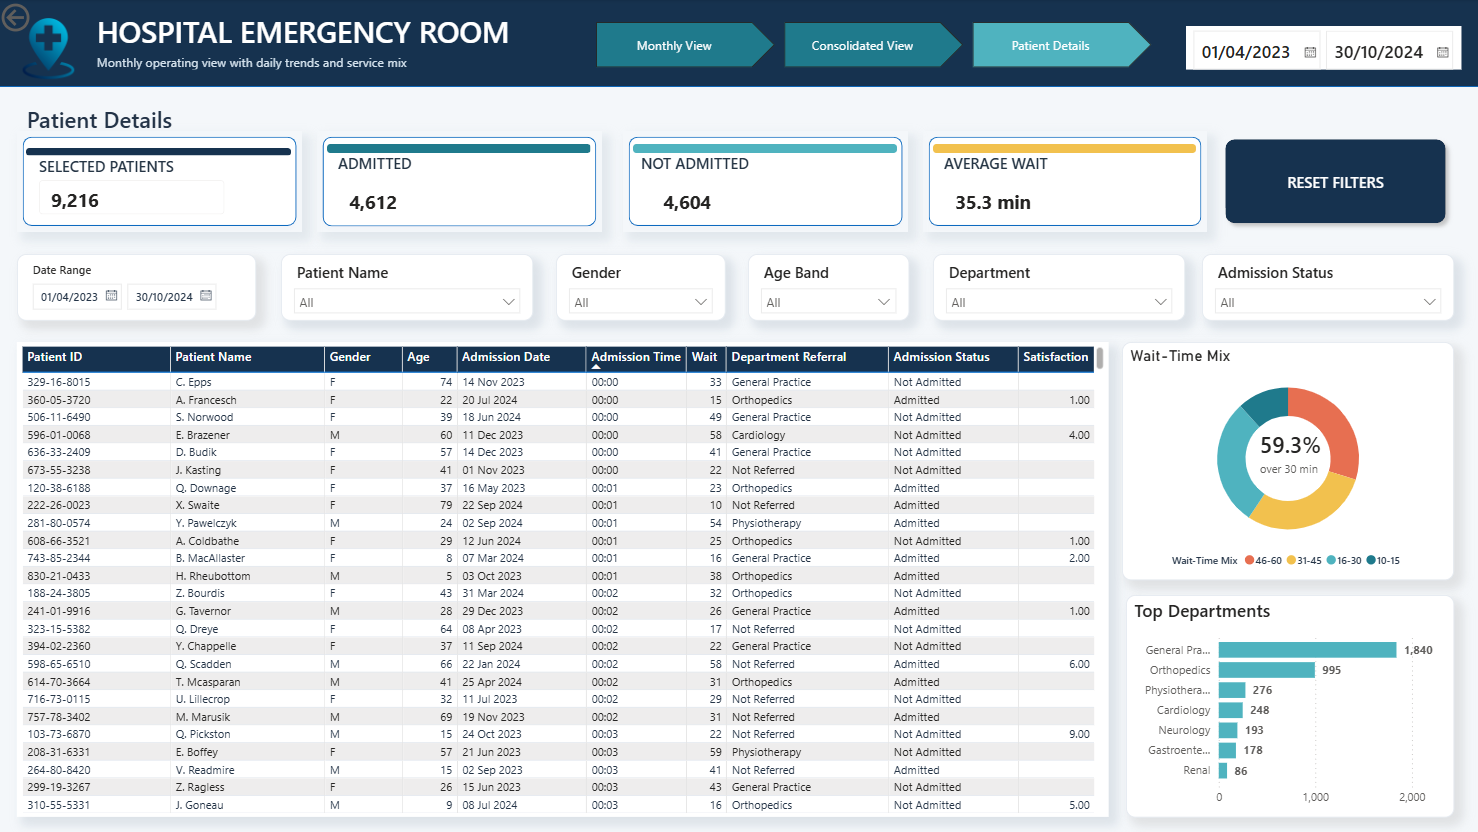

The dashboard page shown, as its layout file describes it:
{"tool":"powerbi","page":{"name":"Patient Details","canvas":[1600,900],"ordinal":2},"visuals":[{"type":"shape","box":[0,0,1600,94.8],"z":0},{"type":"donutChart","title":"Wait-Time Mix","fields":{"Category":["ER Visits.Wait Time Band"],"Y":["ER Visits.Total Patients"]},"box":[1213.2,370.2,358.1,256.8],"z":0,"group":"g4"},{"type":"shape","box":[22,142.3,307.5,108.5],"z":1000},{"type":"shape","box":[345.1,142.3,307.2,109],"z":1000,"group":"g1"},{"type":"cardVisual","fields":{"Data":["ER Visits.Patients Over 30 Min %"]},"box":[1332.6,424.5,179.7,129],"z":1000,"group":"g4"},{"type":"shape","box":[675.5,142.3,307.5,108.5],"z":2000,"group":"g2"},{"type":"cardVisual","title":"SELECTED PATIENTS","fields":{"Data":["ER Visits.Total Patients"]},"box":[44.9,168.8,200.2,63.9],"z":2000},{"type":"shape","box":[998.6,142.3,306.3,108.5],"z":3000,"group":"g3"},{"type":"shape","box":[31.6,160.4,285.8,8.4],"z":3000},{"type":"image","box":[20.7,20.7,70.5,65.7],"z":4000},{"type":"textbox","box":[102.1,7.3,500.9,59.6],"z":5000},{"type":"cardVisual","title":"ADMITTED","fields":{"Data":["ER Visits.Admitted Patients"]},"box":[368.1,165.6,269.1,75.5],"z":5000,"group":"g1"},{"type":"textbox","box":[102.1,53.5,500.9,26.7],"z":6000},{"type":"cardVisual","title":"NOT ADMITTED","fields":{"Data":["ER Visits.Not Admitted Patients"]},"box":[694.6,165.5,228.3,75.2],"z":6000,"group":"g2"},{"type":"slicer","fields":{"Values":["Date.Date"]},"box":[1281.7,28.9,296.6,47],"z":7000},{"type":"cardVisual","title":"AVERAGE WAIT","fields":{"Data":["ER Visits.Average Wait Time (Min)"]},"box":[1021.3,165.9,230.4,75.2],"z":7000,"group":"g3"},{"type":"textbox","box":[26.5,107.3,249.6,43.4],"z":8000},{"type":"actionButton","box":[0,0,100,40],"z":9000},{"type":"group","id":"g1","title":"Group 2","box":[345.1,142.3,307.5,108.5],"z":10000},{"type":"group","id":"g2","title":"Group 3","box":[675.5,142.3,307.5,108.5],"z":11000},{"type":"shape","box":[355.7,156.3,284.4,9.7],"z":11000,"group":"g1"},{"type":"group","id":"g3","title":"Group 4","box":[998.6,142.3,306.3,108.5],"z":12000},{"type":"shape","box":[686.2,156.3,284.6,9.7],"z":12000,"group":"g2"},{"type":"actionButton","box":[1315.7,142.3,255.6,108.5],"z":13000},{"type":"shape","box":[1009.2,156.3,283.5,9.7],"z":13000,"group":"g3"},{"type":"slicer","fields":{"Values":["Date.Date"]},"box":[22,274.9,258,72.3],"z":14000},{"type":"slicer","fields":{"Values":["ER Visits.Patient Full Name"]},"box":[306.5,274.9,272.5,72.3],"z":15000},{"type":"slicer","fields":{"Values":["ER Visits.Gender Label"]},"box":[603.1,274.9,183.3,72.3],"z":16000},{"type":"slicer","fields":{"Values":["ER Visits.Age Band"]},"box":[809.3,274.9,173.6,72.3],"z":17000},{"type":"slicer","fields":{"Values":["ER Visits.Department Referral"]},"box":[1009.4,274.9,272.5,72.3],"z":18000},{"type":"slicer","fields":{"Values":["ER Visits.Admission Status"]},"box":[1298.8,274.9,272.5,72.3],"z":19000},{"type":"tableEx","fields":{"Values":["ER Visits.Patient ID","ER Visits.Patient Full Name","ER Visits.Gender Code","ER Visits.Age","ER Visits.Admission Date","ER Visits.Admission Time","ER Visits.Wait Time (Min)","ER Visits.Department Referral","ER Visits.Admission Status","ER Visits.Satisfaction Score"]},"box":[22,370.2,1176.8,512.4],"z":20000},{"type":"group","id":"g4","title":"Group 1","box":[1213.2,370.2,358.1,256.8],"z":21000},{"type":"clusteredBarChart","title":"Top Departments","fields":{"Category":["ER Visits.Department Referral"],"Y":["ER Visits.Referred Patients"]},"box":[1216.8,642.7,354.5,239.9],"z":22000},{"type":"pageNavigator","box":[646.3,25.3,600.5,49.4],"z":23000}]}

Visuals, with their boxes in screenshot pixels (x1, y1, x2, y2), scaled from the page's 1600x900 canvas onto the 1478x832 screenshot:
shape: 0, 0, 1477, 88
"Wait-Time Mix" donutChart: 1121, 342, 1451, 580
shape: 20, 132, 304, 232
shape: 319, 132, 603, 232
cardVisual - ER Visits.Patients Over 30 Min %: 1231, 392, 1397, 512
shape: 624, 132, 908, 232
"SELECTED PATIENTS" cardVisual: 41, 156, 226, 215
shape: 922, 132, 1205, 232
shape: 29, 148, 293, 156
image: 19, 19, 84, 80
textbox: 94, 7, 557, 62
"ADMITTED" cardVisual: 340, 153, 589, 223
textbox: 94, 49, 557, 74
"NOT ADMITTED" cardVisual: 642, 153, 853, 223
slicer - Date.Date: 1184, 27, 1458, 70
"AVERAGE WAIT" cardVisual: 943, 153, 1156, 223
textbox: 24, 99, 255, 139
actionButton: 0, 0, 92, 37
"Group 2" group: 319, 132, 603, 232
"Group 3" group: 624, 132, 908, 232
shape: 329, 144, 591, 153
"Group 4" group: 922, 132, 1205, 232
shape: 634, 144, 897, 153
actionButton: 1215, 132, 1451, 232
shape: 932, 144, 1194, 153
slicer - Date.Date: 20, 254, 259, 321
slicer - ER Visits.Patient Full Name: 283, 254, 535, 321
slicer - ER Visits.Gender Label: 557, 254, 726, 321
slicer - ER Visits.Age Band: 748, 254, 908, 321
slicer - ER Visits.Department Referral: 932, 254, 1184, 321
slicer - ER Visits.Admission Status: 1200, 254, 1451, 321
tableEx - ER Visits.Patient ID x ER Visits.Patient Full Name: 20, 342, 1107, 816
"Group 1" group: 1121, 342, 1451, 580
"Top Departments" clusteredBarChart: 1124, 594, 1451, 816
pageNavigator: 597, 23, 1152, 69
